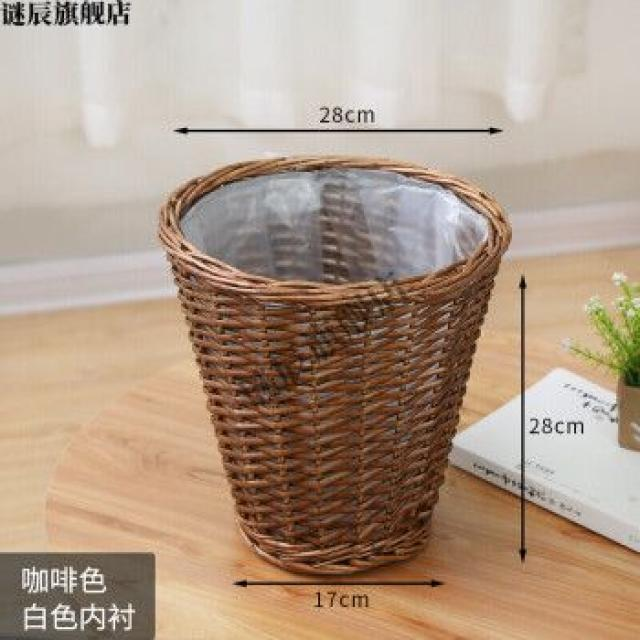dustbin: (159, 147, 512, 578)
